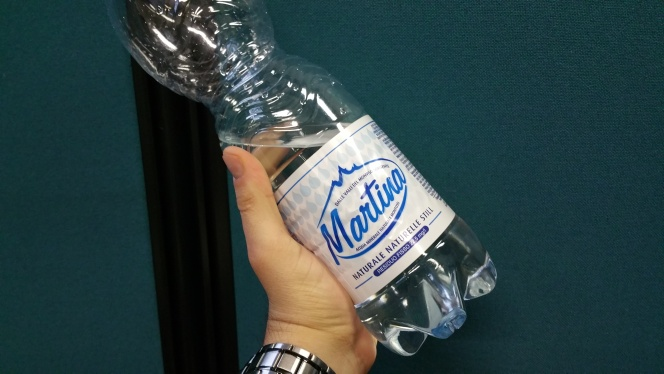bottle: (101, 1, 500, 357)
